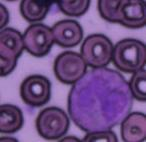E: (68, 67, 133, 133)
